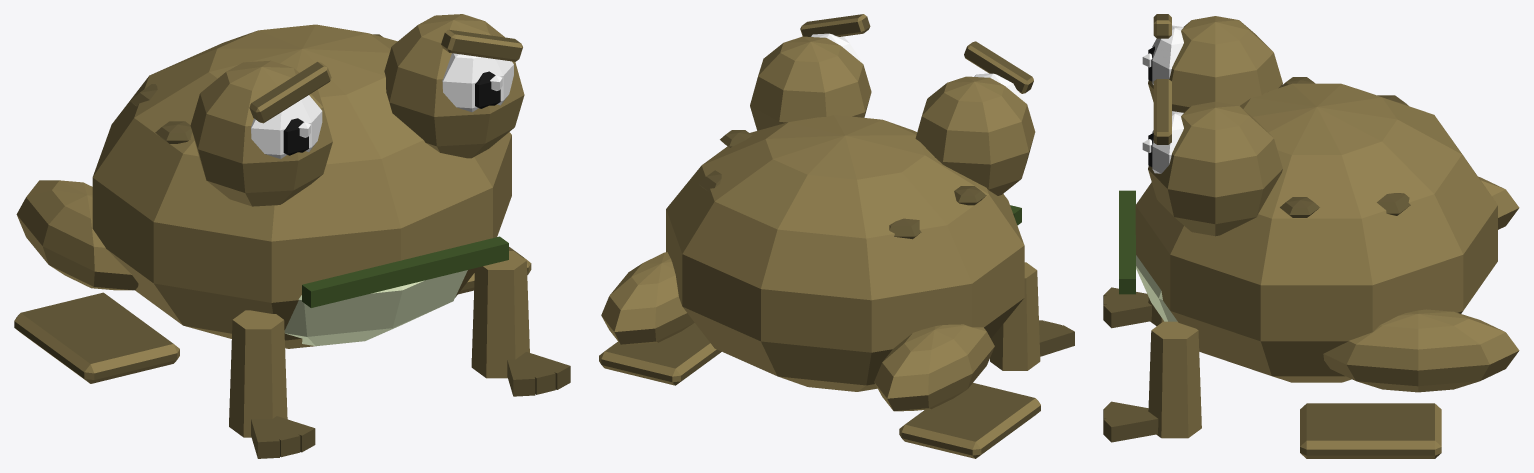
The model's file is kroete.glb.
3 views of the same model, side by side, from view 1: azimuth 30°, elevation 25°; view 2: azimuth 150°, elevation 25°; view 3: azimuth 270°, elevation 25° (orthographic). The views are drawn at different scales.
Visible parts, largest first — view 1: body-m, legs-m; view 2: body-m, legs-m; view 3: body-m, legs-m.
Boxes of the visible parts, bbox=[...] form: body-m: bbox=[92, 14, 570, 458]; legs-m: bbox=[14, 180, 531, 383]; body-m: bbox=[666, 14, 1074, 391]; legs-m: bbox=[599, 252, 1040, 458]; body-m: bbox=[1103, 14, 1497, 442]; legs-m: bbox=[1300, 176, 1519, 458].
Size of the model in its own units: 1.4 by 1.06 by 1.23.
